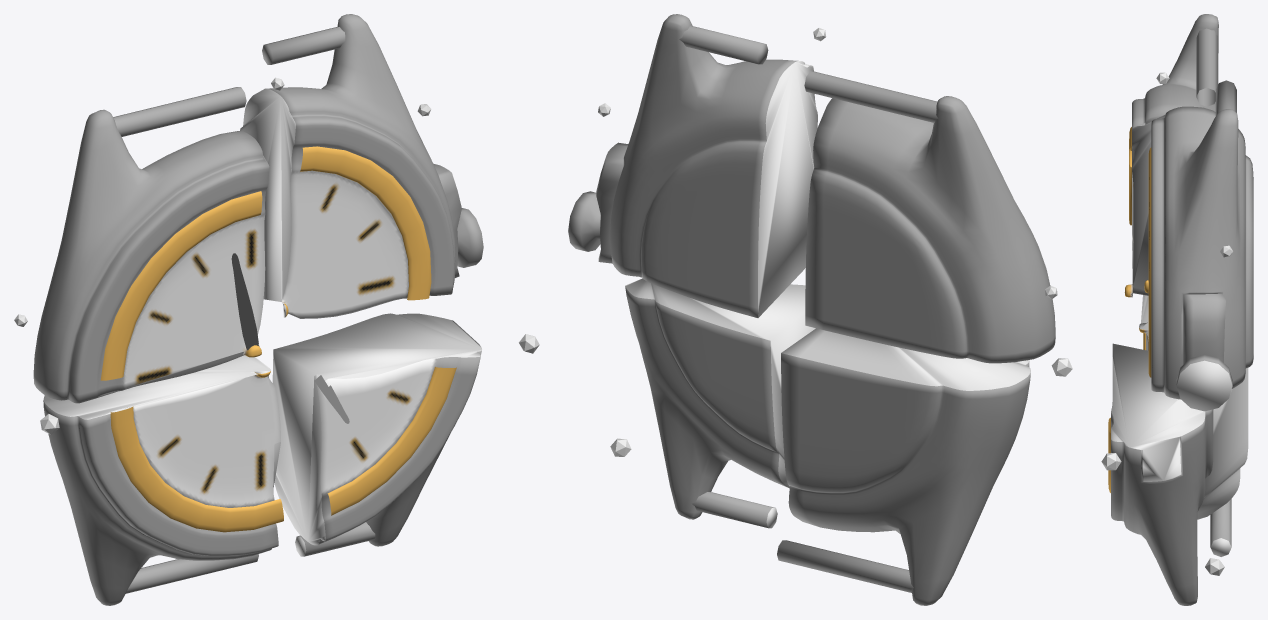
File: Watch_Broken2.fbx
The picture shows the model from 3 angles, left to right: view 1: azimuth 30°, elevation 25°; view 2: azimuth 150°, elevation 25°; view 3: azimuth 270°, elevation 25°; orthographic projection. The views are drawn at different scales.
Parts seen in each view (by area): view 1: Watch_Broken_Part1.002, Watch_Broken_Part2.002, Watch_Broken_Part3.002, Watch_Broken_Part4.002; view 2: Watch_Broken_Part1.002, Watch_Broken_Part2.002, Watch_Broken_Part3.002, Watch_Broken_Part4.002; view 3: Watch_Broken_Part2.002, Watch_Broken_Part4.002, Watch_Broken_Part1.002, Watch_Broken_Part3.002, Watch_Broken_Ruins.003, Watch_Broken_Ruins.004.
Boxes of the visible parts, x1,y1,x2,y2 form: Watch_Broken_Part1.002: [33, 87, 269, 403]; Watch_Broken_Part2.002: [240, 14, 483, 318]; Watch_Broken_Part3.002: [43, 355, 283, 605]; Watch_Broken_Part4.002: [272, 313, 481, 556]; Watch_Broken_Part1.002: [804, 71, 1055, 363]; Watch_Broken_Part2.002: [568, 14, 817, 317]; Watch_Broken_Part3.002: [777, 328, 1030, 605]; Watch_Broken_Part4.002: [625, 278, 815, 528]; Watch_Broken_Part2.002: [1144, 80, 1253, 411]; Watch_Broken_Part4.002: [1108, 343, 1213, 605]; Watch_Broken_Part1.002: [1124, 14, 1218, 297]; Watch_Broken_Part3.002: [1139, 295, 1248, 556]; Watch_Broken_Ruins.003: [1101, 245, 1232, 470]; Watch_Broken_Ruins.004: [1156, 72, 1224, 575].
Bounding box in the file's own units: 712 × 206 × 746.
